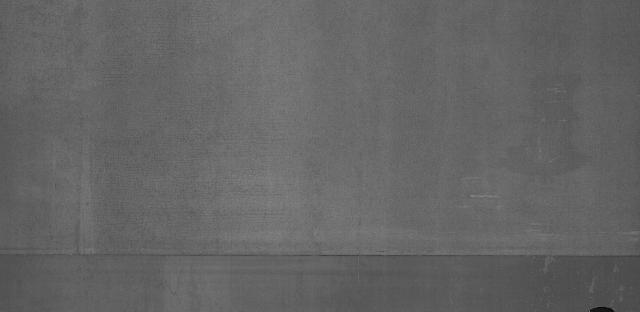punching_hole: (588, 302, 616, 312)
welding_line: (8, 237, 640, 274)
